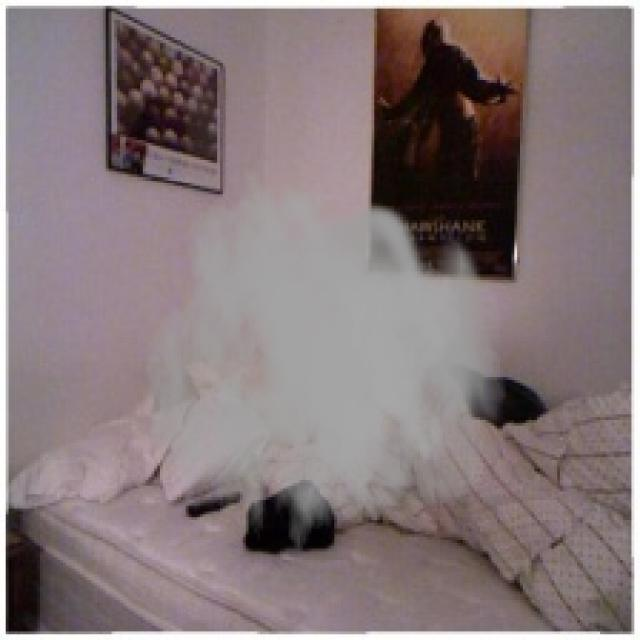Smoke: (143, 168, 506, 574)
